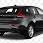car: (1, 2, 41, 36), (1, 3, 41, 36), (30, 10, 43, 34)
